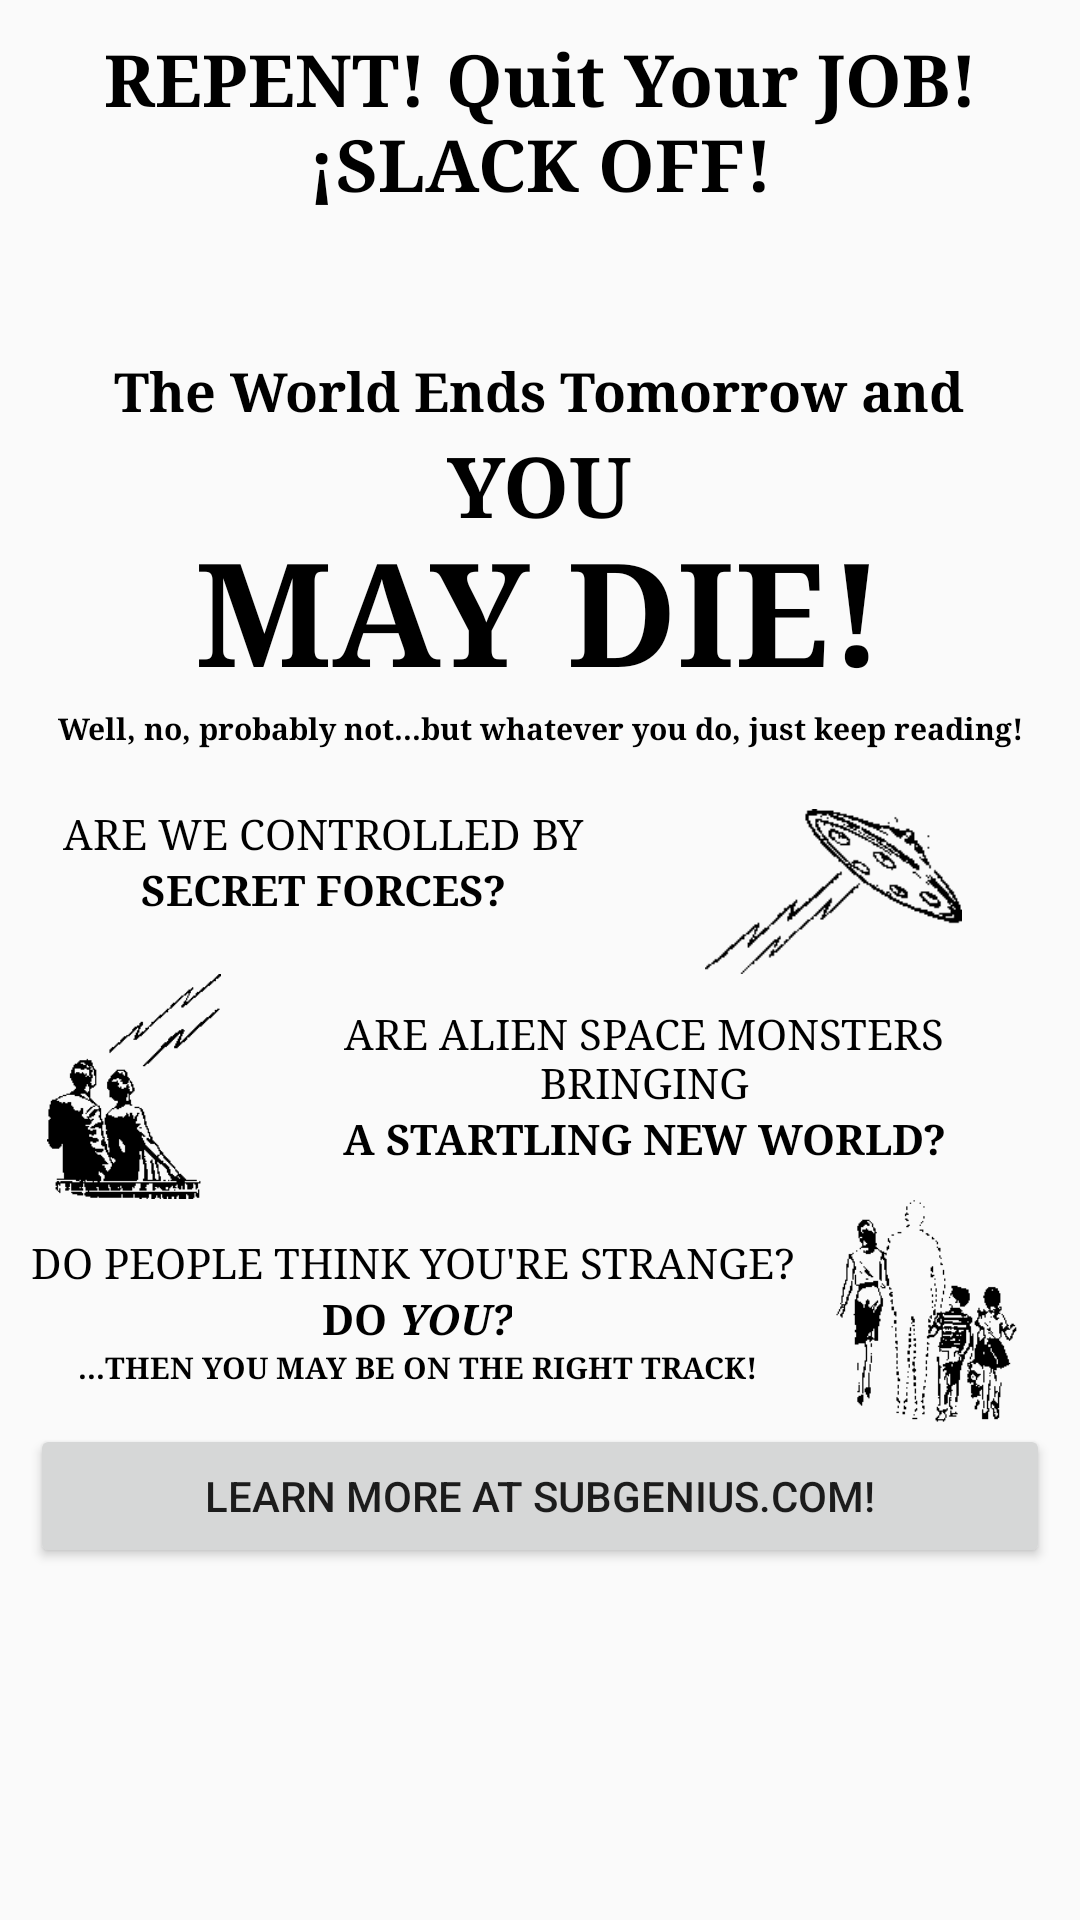

Screen size 1080×1920. Icon name, then its center in pixels as point (x, y):
pam ufo: point (833, 891)
pam walking: point (926, 1311)
